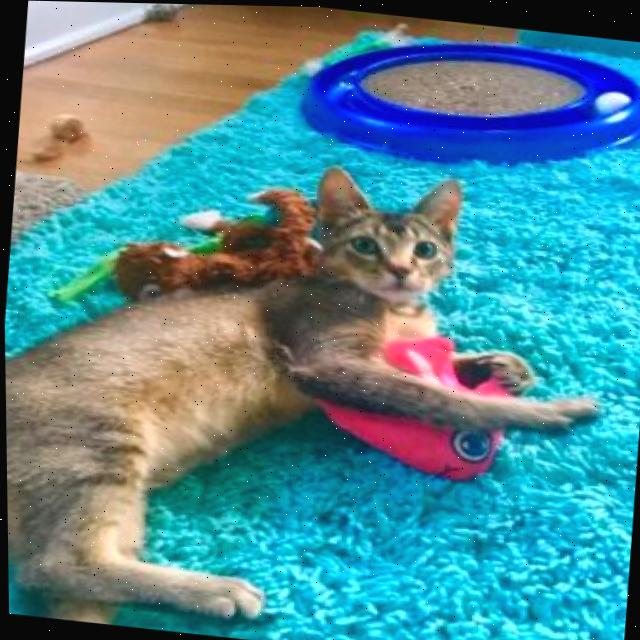Abyssinian: (1, 127, 627, 640)
